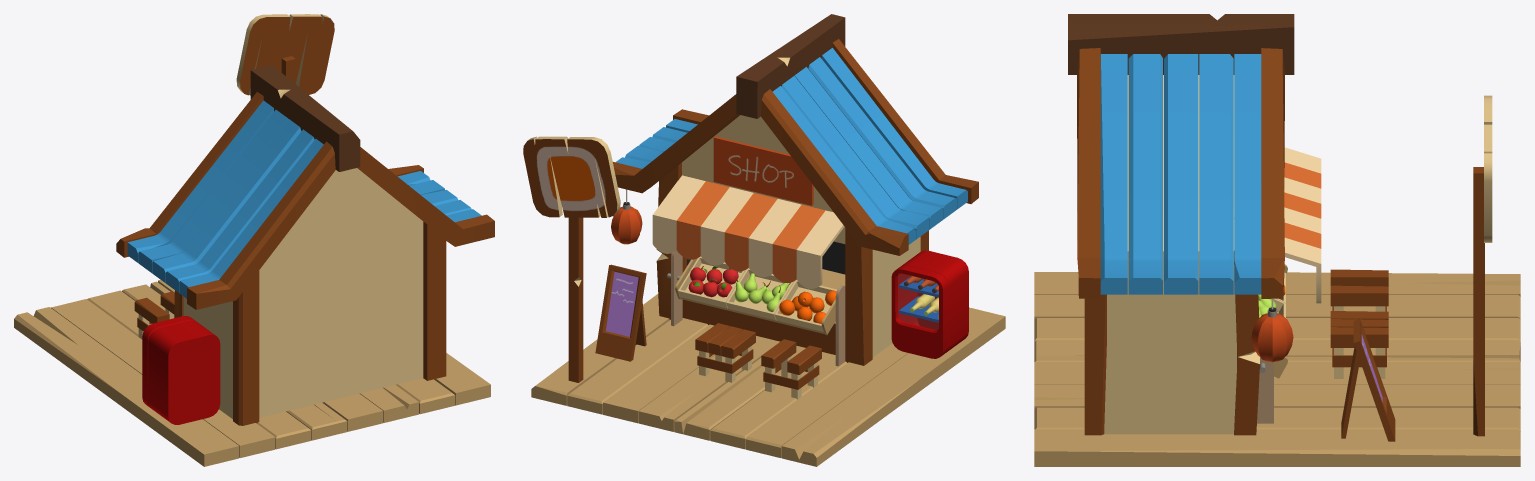
Rendered from Chinese_Shop_Scene2.fbx.
3 renders of one model, left to right at view 1: azimuth 30°, elevation 25°; view 2: azimuth 150°, elevation 25°; view 3: azimuth 270°, elevation 25°, orthographic. The views are drawn at different scales.
Visible parts, largest first — view 1: Chinese_Shop_Scene2; view 2: Chinese_Shop_Scene2; view 3: Chinese_Shop_Scene2.
Part boxes in pixels (box(x1,y1,x2,y2)): Chinese_Shop_Scene2: box(14, 14, 494, 466); Chinese_Shop_Scene2: box(523, 14, 1005, 466); Chinese_Shop_Scene2: box(1034, 14, 1520, 466).
Bounding box in the file's own units: 11.73 × 12.51 × 10.4.
